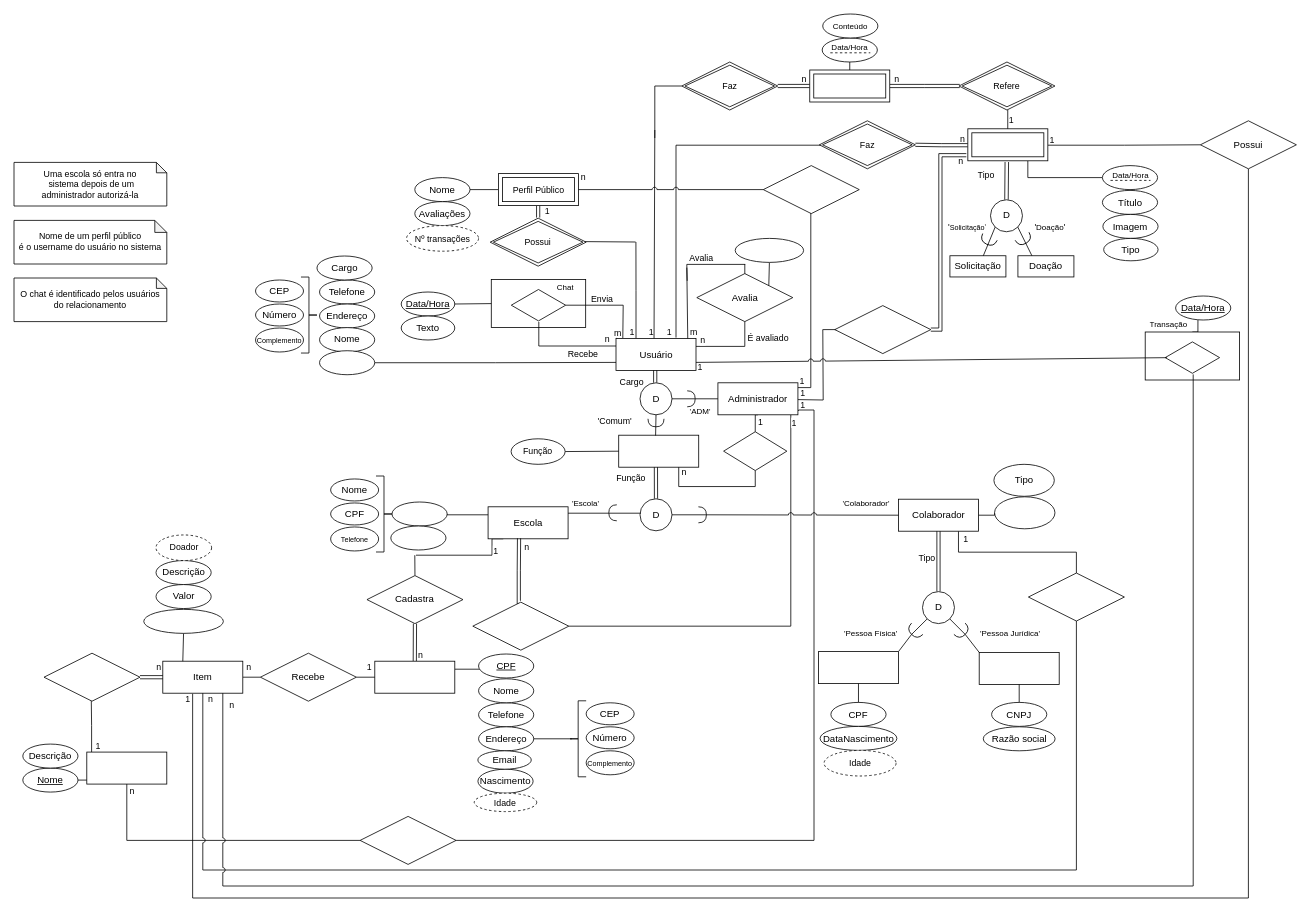
Some shapes in this 1310 by 913 pixel diagram are drawn without their labels. The shapes that lost their labels are listed below. From the top down, each one's box as (x1, y1, x2, y2) in pixels, then its label:
(809, 69, 890, 102): Comentário
(967, 128, 1048, 161): Post
(762, 165, 859, 214): Verifica
(734, 238, 804, 262): Nota
(510, 288, 566, 322): Mensagem
(834, 305, 931, 354): Exclui
(319, 350, 375, 375): E-mail
(1164, 340, 1220, 374): Movimenta
(618, 434, 699, 467): Comum
(723, 431, 787, 471): Remove
(391, 501, 447, 526): Responsável
(994, 496, 1055, 529): Id
(390, 525, 446, 550): Código MEC
(1028, 572, 1124, 621): Doa
(143, 609, 223, 633): Número Serial
(472, 601, 569, 650): Autentica
(43, 652, 140, 701): Divide
(374, 660, 455, 693): Aluno
(818, 651, 898, 684): Pessoa Fisica
(978, 652, 1059, 684): Pessoa Jurídica
(86, 751, 167, 784): Categoria
(359, 816, 456, 864): Gerencia
